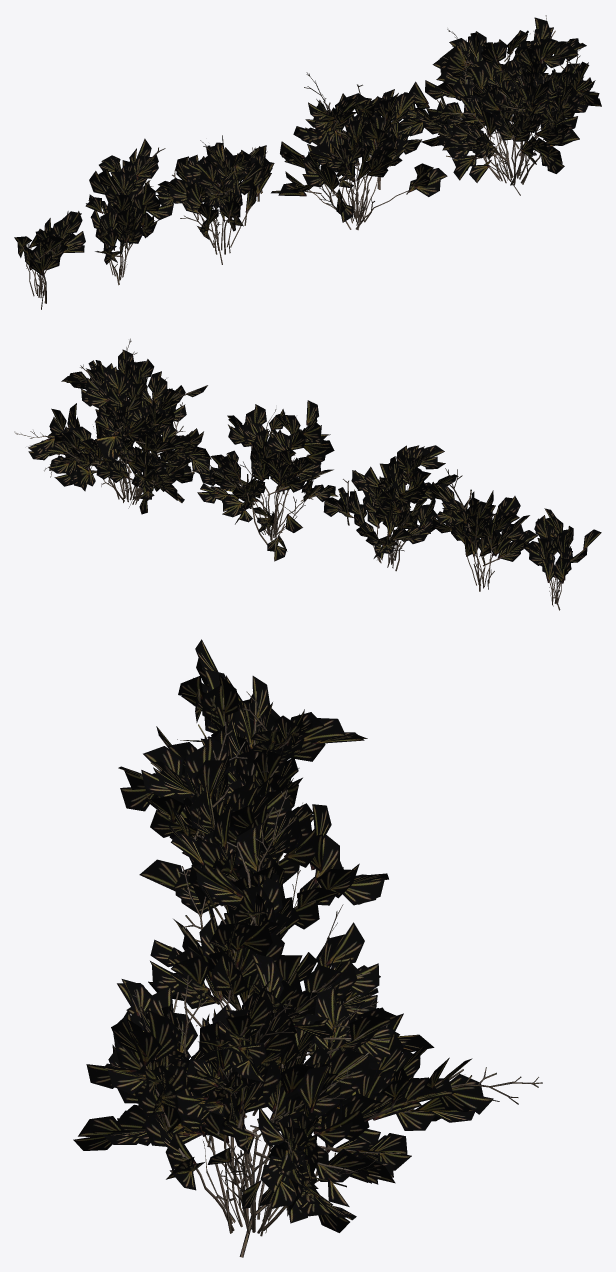
Rendered from veg_shrubB.glb.
3 views of the same model, one above another, from view 1: azimuth 30°, elevation 25°; view 2: azimuth 150°, elevation 25°; view 3: azimuth 270°, elevation 25° (orthographic). The views are drawn at different scales.
Visible parts, largest first — view 1: VEG_shrubB; view 2: VEG_shrubB; view 3: VEG_shrubB.
Boxes of the visible parts, left/top/right/bottom form: VEG_shrubB: left=14, top=15, right=601, bottom=309; VEG_shrubB: left=14, top=338, right=601, bottom=610; VEG_shrubB: left=73, top=639, right=542, bottom=1257.
Size of the model in its own units: 2.3 by 0.6047 by 0.8611.
Materials: 3 (3 with a texture image).
